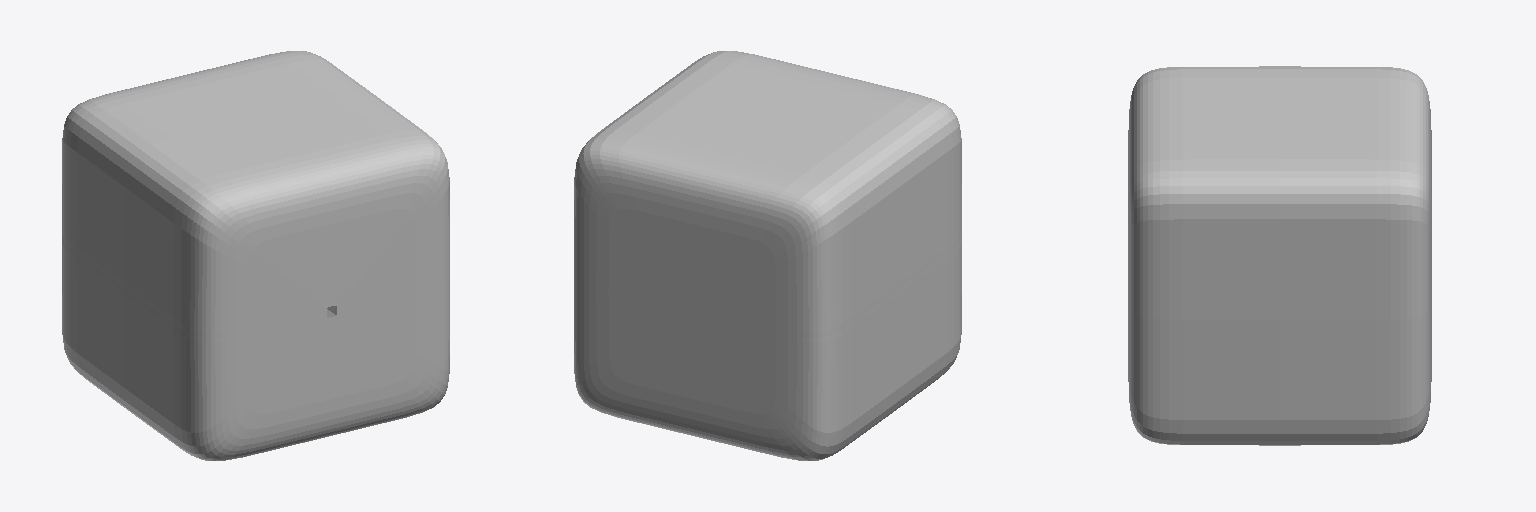
File: RoundCube.obj
The picture shows the model from 3 angles: view 1: azimuth 30°, elevation 25°; view 2: azimuth 150°, elevation 25°; view 3: azimuth 270°, elevation 25°; orthographic projection.
Size of the model in its own units: 2 by 2 by 2.